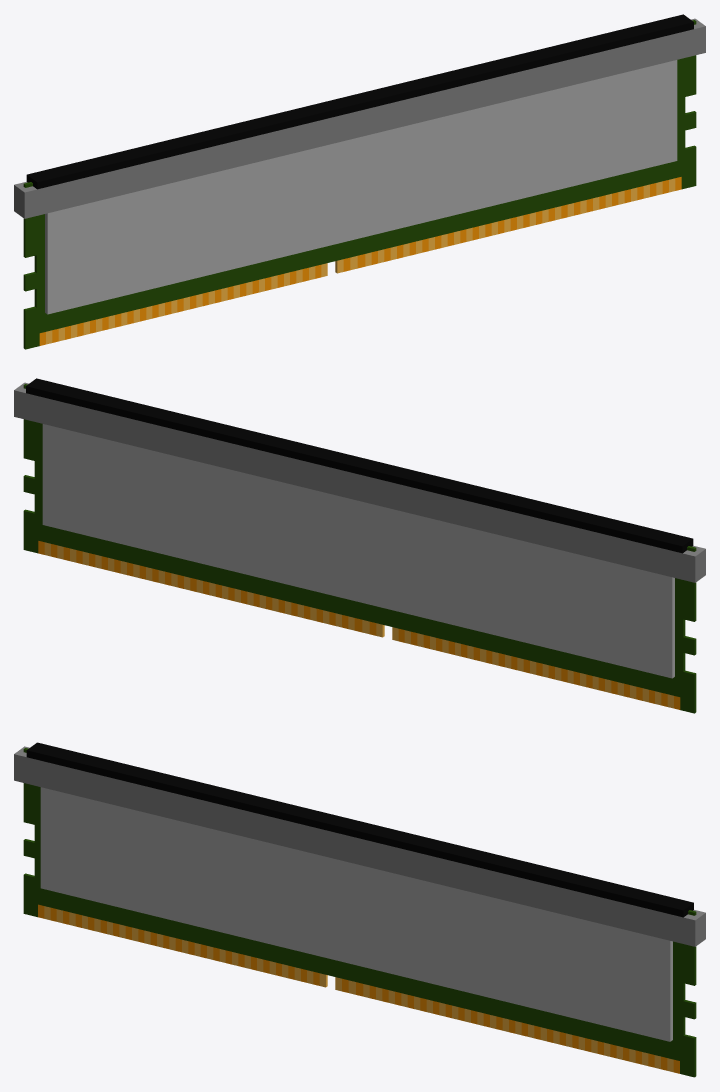
The model's file is ram.glb.
3 renders of one model, top to bottom at view 1: azimuth 30°, elevation 25°; view 2: azimuth 150°, elevation 25°; view 3: azimuth 330°, elevation 25°, orthographic.
Parts seen in each view (by area): view 1: RamMerged; view 2: RamMerged; view 3: RamMerged.
Boxes of the visible parts, x1,y1,x2,y2 form: RamMerged: (14,14,705,349); RamMerged: (14,378,705,713); RamMerged: (14,742,705,1077).
Bounding box in the file's own units: 4.44 × 1.05 × 0.12.
